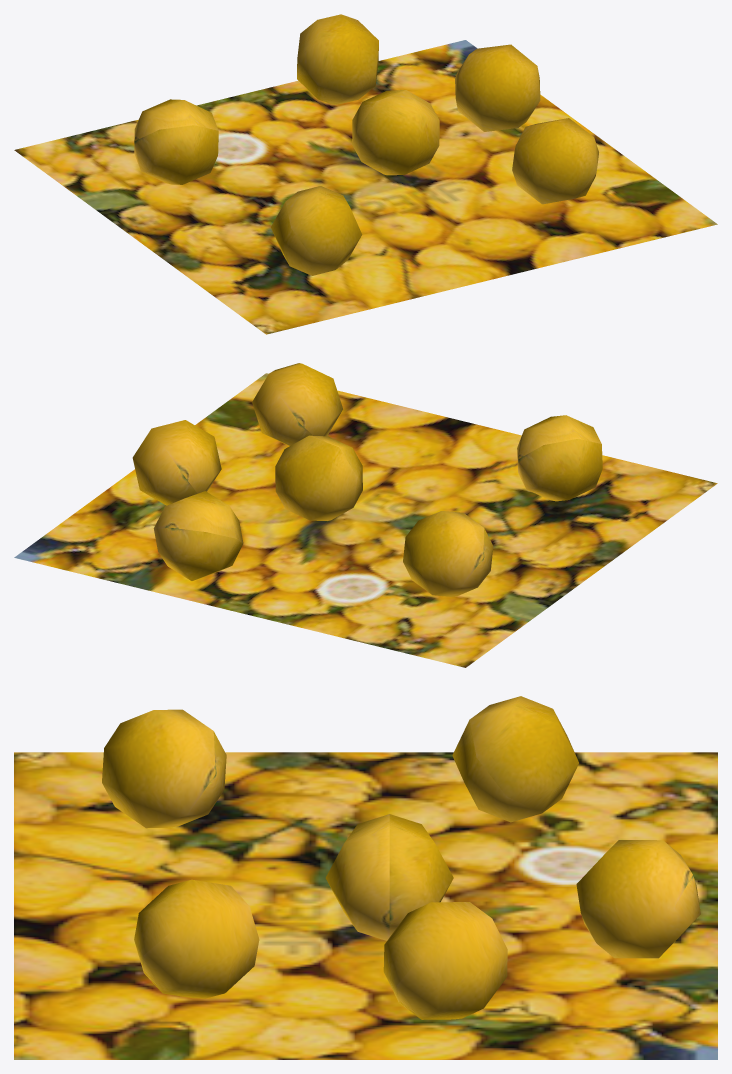
Rendered from limon.FBX.
3 views of the same model, one above another, from view 1: azimuth 30°, elevation 25°; view 2: azimuth 150°, elevation 25°; view 3: azimuth 270°, elevation 25° (orthographic). The views are drawn at different scales.
Visible parts, largest first — view 1: limon; view 2: limon; view 3: limon.
Part boxes in pixels (x1=…): limon: x1=14, y1=14, x2=717, y2=334; limon: x1=14, y1=363, x2=717, y2=667; limon: x1=14, y1=696, x2=717, y2=1059.
Size of the model in its own units: 195 by 189 by 34.19.
